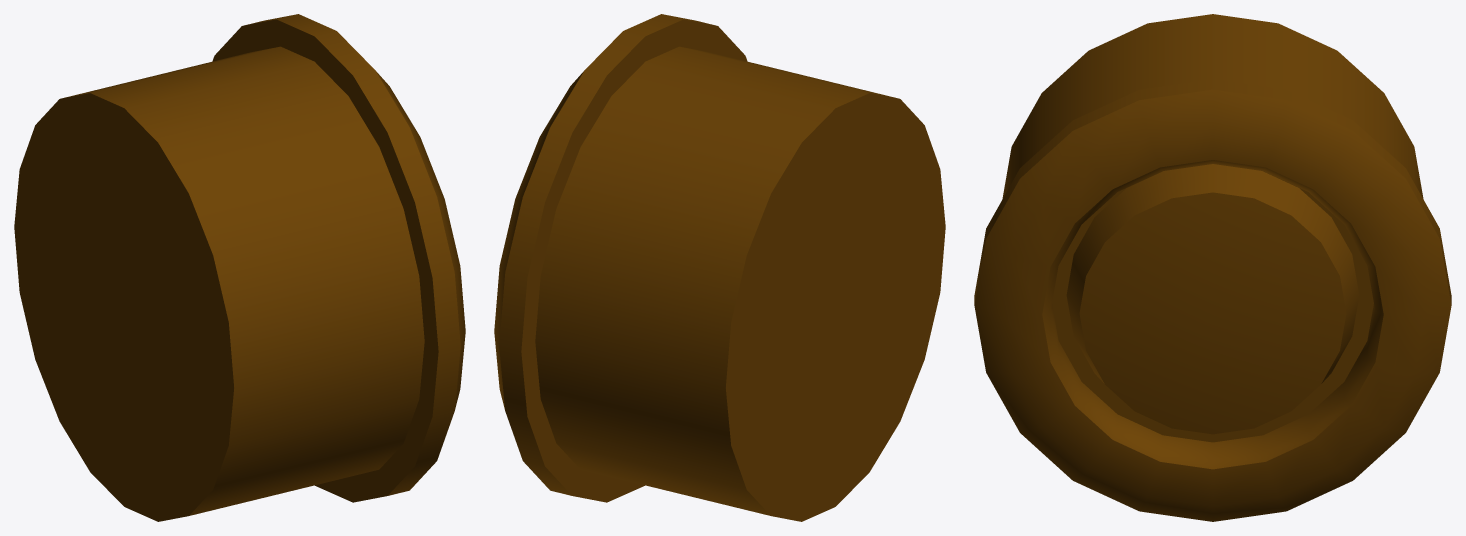
Rendered from AIR_D400_E.FBX.
3 views of the same model, side by side, from view 1: azimuth 30°, elevation 25°; view 2: azimuth 150°, elevation 25°; view 3: azimuth 270°, elevation 25° (orthographic). The views are drawn at different scales.
Visible parts, largest first — view 1: AIR_D400_E; view 2: AIR_D400_E; view 3: AIR_D400_E.
Boxes of the visible parts, box(x1,y1,x2,y2) form: AIR_D400_E: box(14, 14, 465, 521); AIR_D400_E: box(494, 14, 945, 521); AIR_D400_E: box(974, 14, 1451, 521).
Size of the model in its own units: 26.04 by 45.07 by 45.07.
